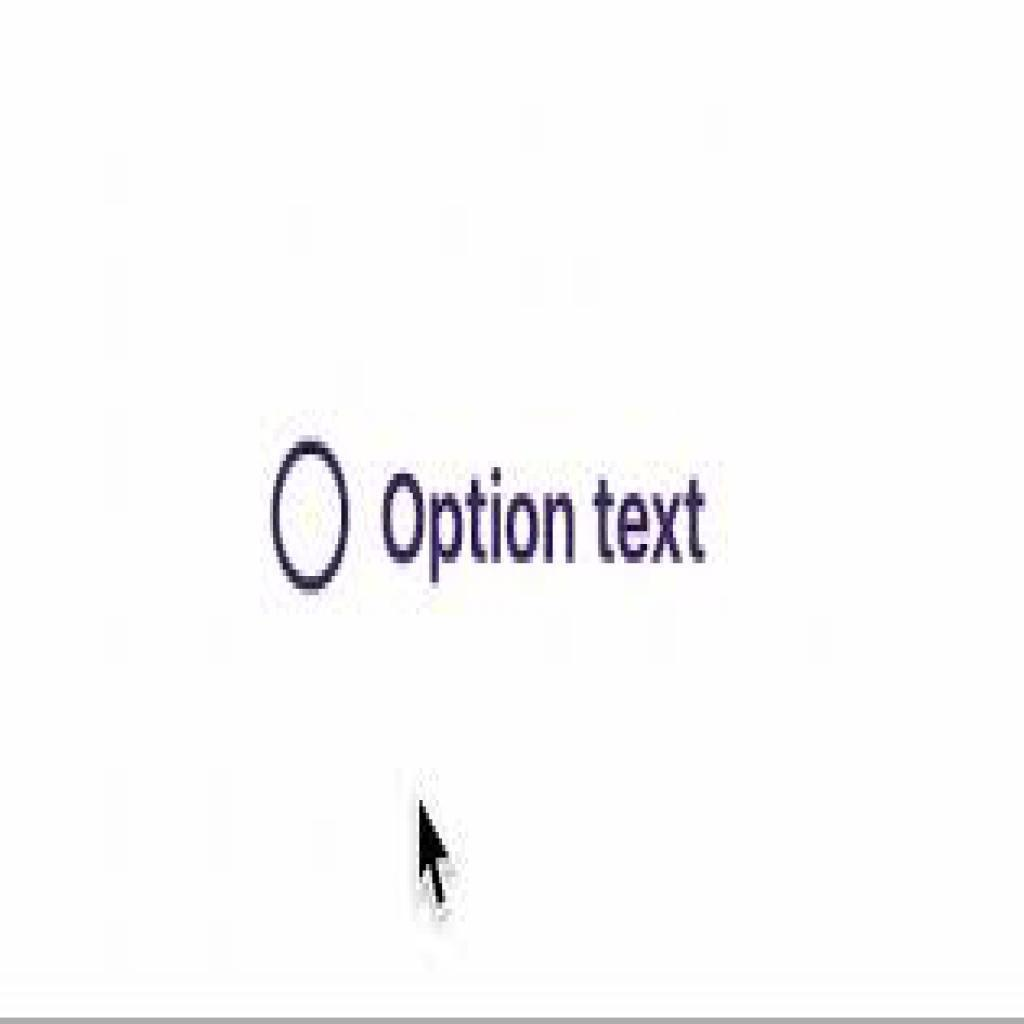radio: (267, 429, 358, 595)
